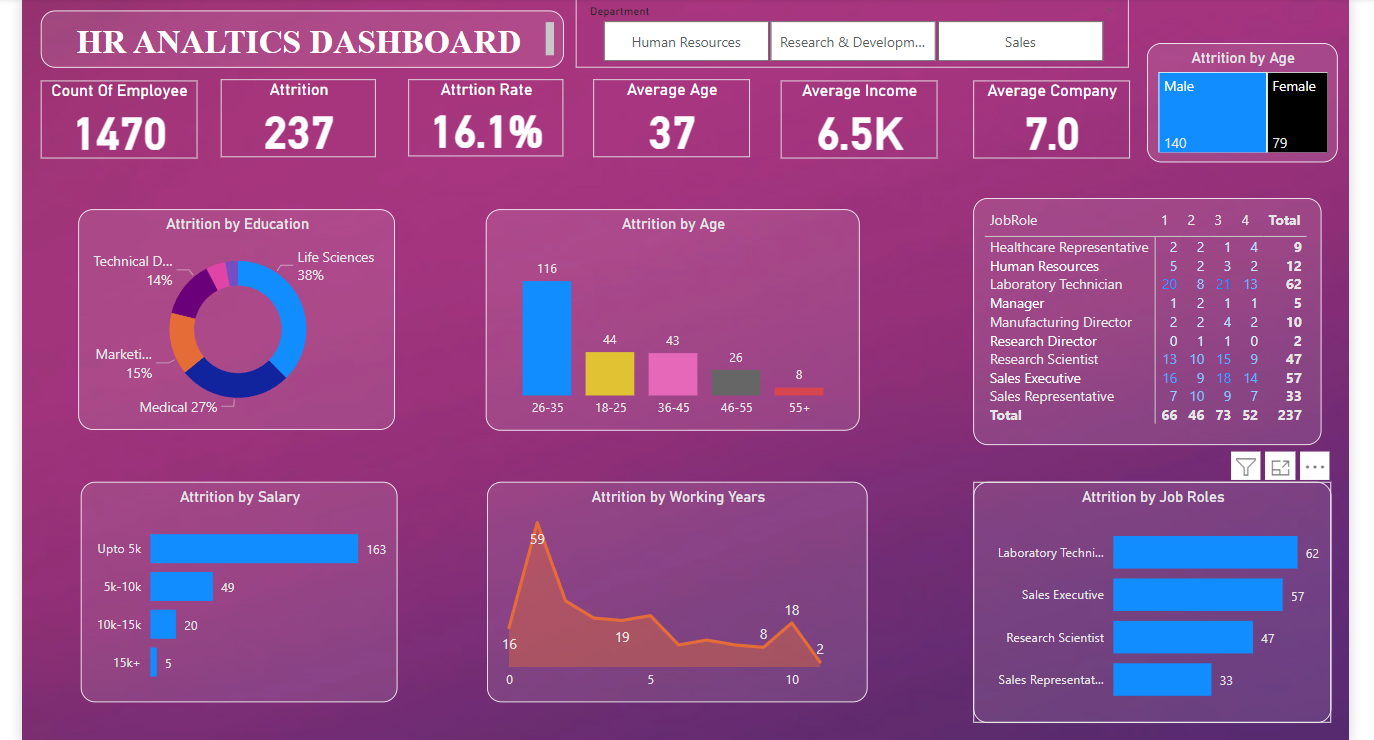

Layout of this report page (visuals, bound fields, positions):
{"tool":"powerbi","page":{"name":"Page 1","canvas":[1280,720],"ordinal":0},"visuals":[{"type":"card","title":"Count Of Employee","fields":{"Values":["CountNonNull(HR_Analytics.EmpID)"]},"box":[17.8,79.5,150.8,75.4],"z":0},{"type":"card","title":"Average Age","fields":{"Values":["Avg(HR_Analytics.Age)"]},"box":[551.2,78.1,150.8,75.4],"z":1000},{"type":"card","title":"Attrtion Rate","fields":{"Values":["HR_Analytics.AttrtionRate"]},"box":[372.9,78.1,149.4,74],"z":2000},{"type":"card","title":"Attrition","fields":{"Values":["Sum(HR_Analytics.AttritionCount)"]},"box":[191.9,78.1,149.4,75.4],"z":3000},{"type":"card","title":"Average Income","fields":{"Values":["Avg(HR_Analytics.MonthlyIncome)"]},"box":[732.1,79.5,150.8,75.4],"z":4000},{"type":"card","title":"Average Company","fields":{"Values":["Avg(HR_Analytics.YearsAtCompany)"]},"box":[917.2,79.5,150.8,75.4],"z":5000},{"type":"donutChart","title":"Attrition by Education","fields":{"Category":["HR_Analytics.EducationField"],"Y":["Sum(HR_Analytics.AttritionCount)"]},"box":[54.8,204.3,305.7,212.5],"z":6000},{"type":"columnChart","title":"Attrition by Age","fields":{"Category":["HR_Analytics.AgeGroup"],"Y":["Sum(HR_Analytics.AttritionCount)"]},"box":[447.4,203.8,360.6,213.5],"z":7000},{"type":"pivotTable","fields":{"Rows":["HR_Analytics.JobRole"],"Columns":["HR_Analytics.JobSatisfaction"],"Values":["Sum(HR_Analytics.AttritionCount)"]},"box":[917.2,193.3,335.9,238.6],"z":8000},{"type":"clusteredBarChart","title":"Attrition by Salary","fields":{"Category":["HR_Analytics.SalarySlab"],"Y":["Sum(HR_Analytics.AttritionCount)"]},"box":[56.2,466.2,305.7,212.5],"z":9000},{"type":"clusteredBarChart","title":"Attrition by Job Roles","fields":{"Category":["HR_Analytics.JobRole"],"Y":["Sum(HR_Analytics.AttritionCount)"]},"box":[917.2,466.2,345.5,233.1],"z":10000},{"type":"areaChart","title":"Attrition by Working Years","fields":{"Category":["HR_Analytics.YearsAtCompany"],"Y":["Sum(HR_Analytics.AttritionCount)"]},"box":[448.3,466.2,367.4,212.5],"z":11000},{"type":"treemap","title":"Attrition by Age","fields":{"Group":["HR_Analytics.Gender"],"Values":["Sum(HR_Analytics.AttritionCount)"]},"box":[1085.9,43.9,183.7,115.2],"z":12000},{"type":"slicer","fields":{"Values":["HR_Analytics.Department"]},"box":[534.7,0,533.3,67.2],"z":13000},{"type":"textbox","box":[17.8,12.3,504.5,54.8],"z":14000}]}

Visuals, with their boxes in screenshot pixels (x1, y1, x2, y2):
"Count Of Employee" card: <bbox>33, 69, 192, 149</bbox>
"Average Age" card: <bbox>594, 68, 753, 147</bbox>
"Attrtion Rate" card: <bbox>407, 68, 564, 146</bbox>
"Attrition" card: <bbox>216, 68, 373, 147</bbox>
"Average Income" card: <bbox>784, 69, 943, 149</bbox>
"Average Company" card: <bbox>979, 69, 1138, 149</bbox>
"Attrition by Education" donutChart: <bbox>72, 201, 393, 424</bbox>
"Attrition by Age" columnChart: <bbox>485, 200, 864, 425</bbox>
pivotTable - HR_Analytics.JobRole x HR_Analytics.JobSatisfaction: <bbox>979, 189, 1332, 440</bbox>
"Attrition by Salary" clusteredBarChart: <bbox>73, 476, 395, 700</bbox>
"Attrition by Job Roles" clusteredBarChart: <bbox>979, 476, 1342, 721</bbox>
"Attrition by Working Years" areaChart: <bbox>486, 476, 872, 700</bbox>
"Attrition by Age" treemap: <bbox>1156, 32, 1350, 153</bbox>
slicer - HR_Analytics.Department: <bbox>577, 0, 1138, 56</bbox>
textbox: <bbox>33, 0, 564, 56</bbox>
